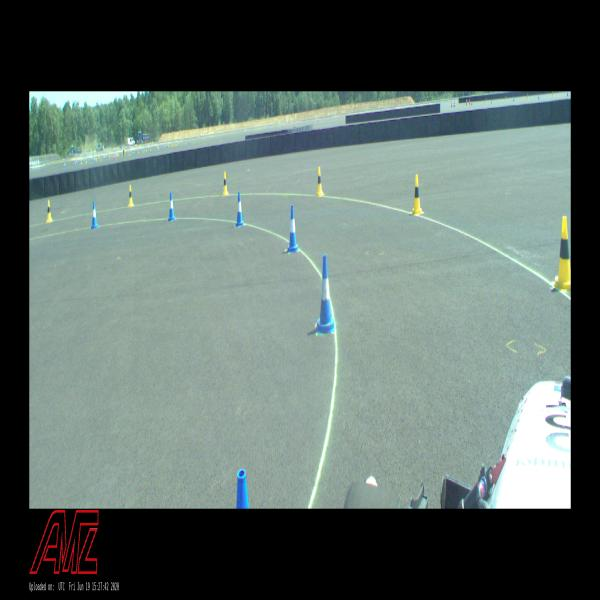blue_cone: (317, 255, 335, 334), (286, 204, 300, 254), (236, 470, 249, 508), (234, 192, 245, 228), (168, 192, 176, 220), (91, 202, 98, 228)
yellow_cone: (552, 216, 570, 291), (411, 174, 424, 214), (316, 167, 325, 196), (46, 200, 53, 222), (223, 172, 229, 195), (128, 185, 134, 206)
